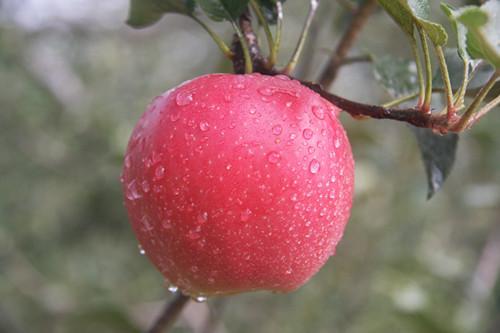apple: (121, 74, 356, 298)
